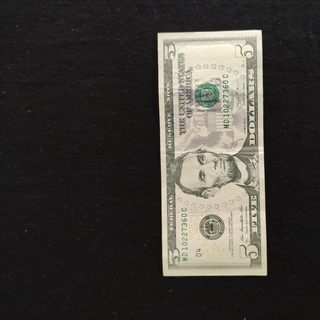5USDFront: (155, 29, 267, 276)
